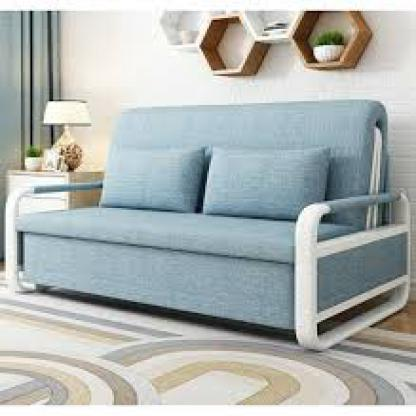sofa: (11, 96, 414, 340)
